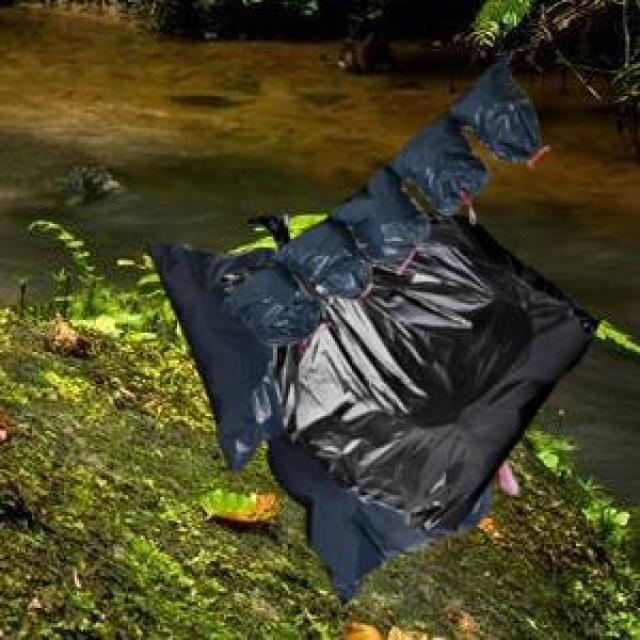Vinyl: (152, 61, 595, 588)
